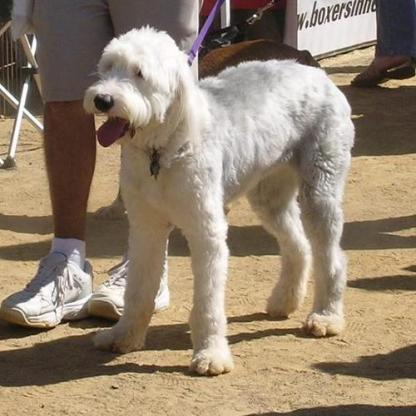Old_English_sheepdog: (81, 21, 355, 374)
